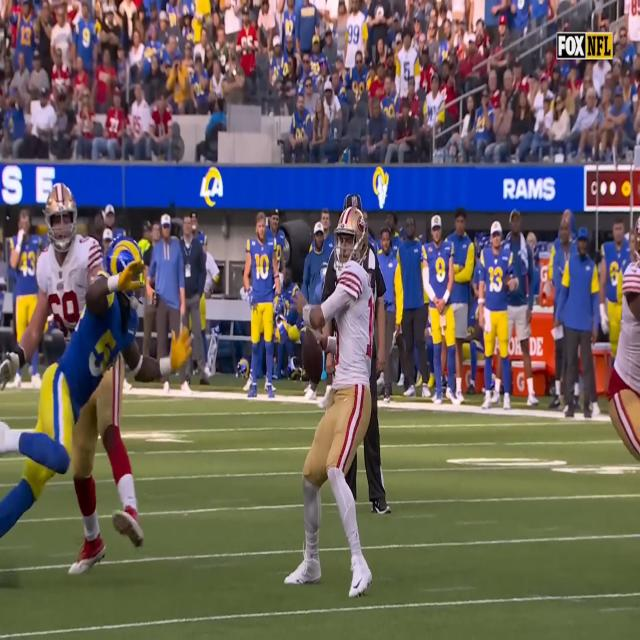football: (301, 329, 322, 385)
players: (0, 234, 192, 538), (0, 183, 147, 576), (283, 208, 372, 599), (423, 216, 462, 403), (478, 221, 512, 408), (244, 215, 276, 399)
